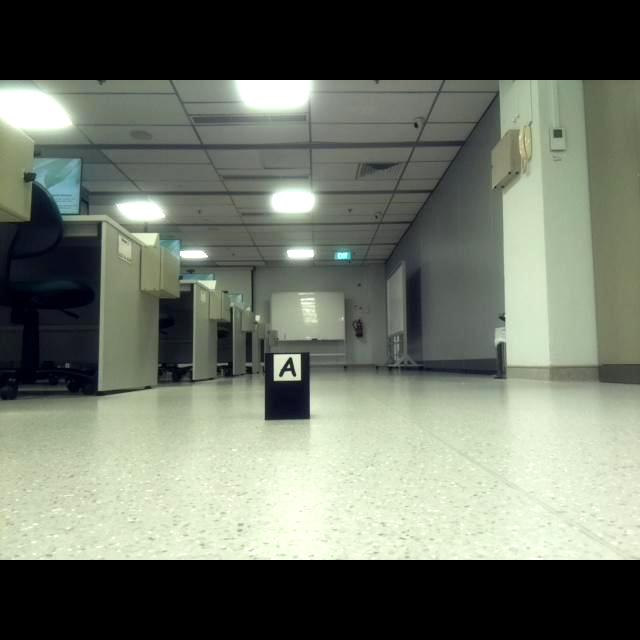A: (278, 357, 297, 378)
